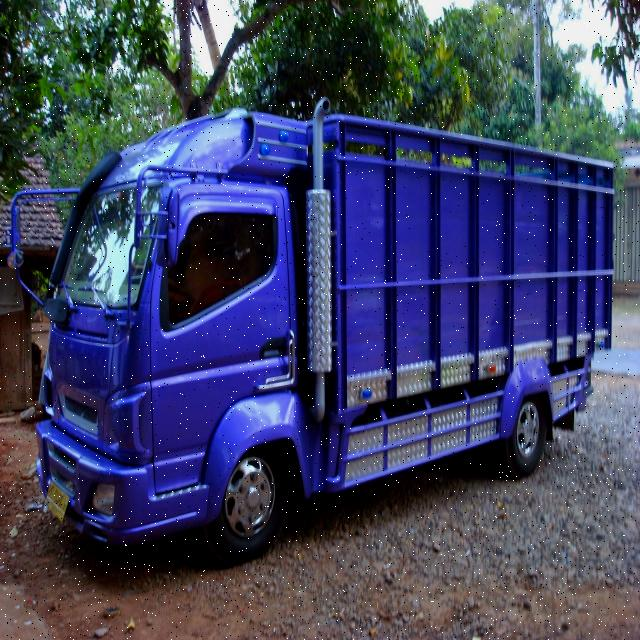truck: (5, 106, 615, 564)
